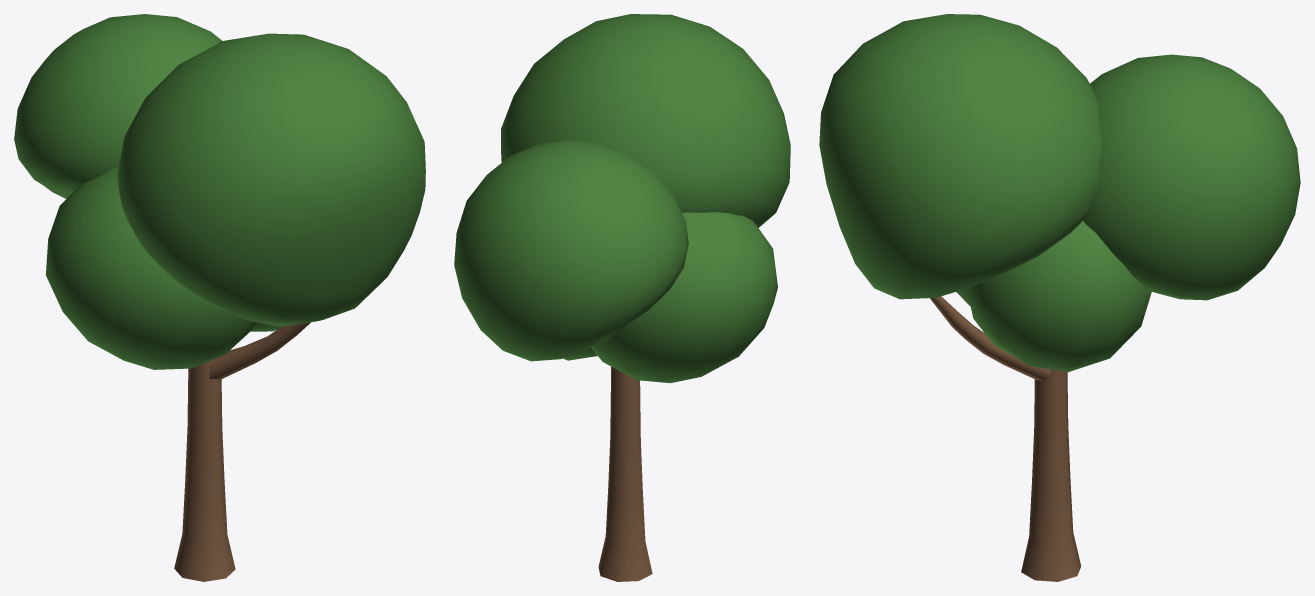
Rendered from SM_tree_standard_05.fbx.
3 views of the same model, side by side, from view 1: azimuth 30°, elevation 25°; view 2: azimuth 150°, elevation 25°; view 3: azimuth 270°, elevation 25° (orthographic). The views are drawn at different scales.
Visible parts, largest first — view 1: Object32422; view 2: Object32422; view 3: Object32422.
Boxes of the visible parts, x1,y1,x2,y2 form: Object32422: (14, 14, 425, 581); Object32422: (454, 14, 790, 581); Object32422: (819, 14, 1300, 581).
Size of the model in its own units: 97.98 by 167 by 131.
